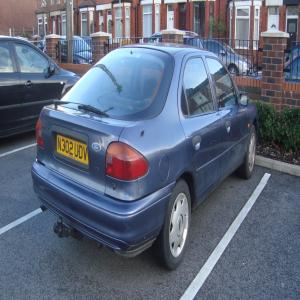Vehicle-registration-plate: (51, 125, 91, 172)
